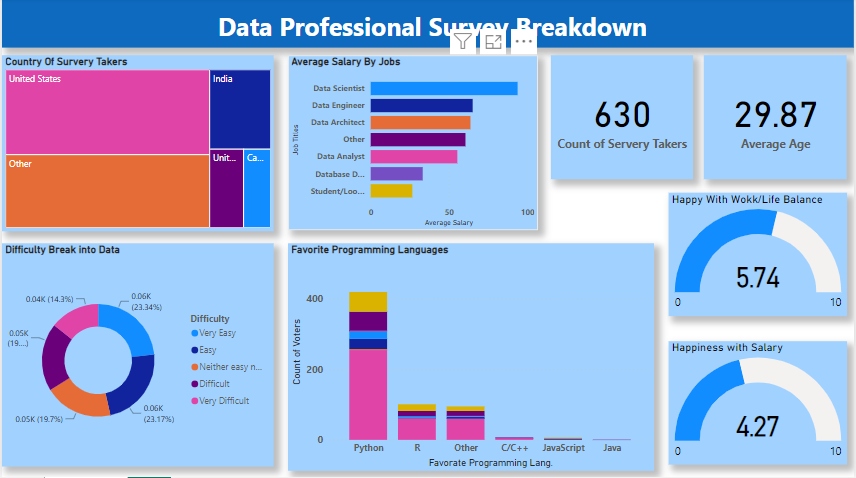

The dashboard page shown, as its layout file describes it:
{"tool":"powerbi","page":{"name":"Page 1","canvas":[1280,720],"ordinal":0},"visuals":[{"type":"textbox","box":[0,0,1279.9,74.5],"z":0},{"type":"card","fields":{"Values":["CountNonNull(Data Professional Survey.Unique ID)"]},"box":[824.8,86,213.2,186.8],"z":1000},{"type":"card","fields":{"Values":["Avg(Data Professional Survey.Q10 - Current Age)"]},"box":[1054.6,86,214.9,186.8],"z":2000},{"type":"barChart","title":"Average Salary  By Jobs","fields":{"Category":["Data Professional Survey.Q1 - Which Title Best Fits your Current Role?.1"],"Y":["Avg(Data Professional Survey.Average Salary)"],"Series":["Data Professional Survey.Q1 - Which Title Best Fits your Current Role?.1"]},"box":[429.8,86,375.2,262.8],"z":3000},{"type":"columnChart","title":"Favorite Programming Languages","fields":{"Category":["Data Professional Survey.Q5 - Favorite Programming Language.1.1"],"Y":["CountNonNull(Data Professional Survey.Unique ID)"],"Series":["Data Professional Survey.Q1 - Which Title Best Fits your Current Role?.1"]},"box":[429.8,368.6,550.4,342.2],"z":4000},{"type":"treemap","title":"Country Of Survery Takers","fields":{"Group":["Data Professional Survey.Q11 - Which Country do you live in?.1"],"Values":["CountNonNull(Data Professional Survey.Q11 - Which Country do you live in?.1)"]},"box":[0,86,408.3,264.5],"z":5000},{"type":"gauge","title":"Happy With Wokk/Life Balance","fields":{"Y":["Avg(Data Professional Survey.Q6 - How Happy are you in your Current Position with the following? (Work/Life Balance))"],"MinValue":["Min(Data Professional Survey.Q6 - How Happy are you in your Current Position with the following? (Work/Life Balance))1"],"MaxValue":["Max(Data Professional Survey.Q6 - How Happy are you in your Current Position with the following? (Work/Life Balance))2"]},"box":[1001.7,292.6,267.8,185.1],"z":6000},{"type":"gauge","title":"Happiness with Salary","fields":{"Y":["Avg(Data Professional Survey.Q6 - How Happy are you in your Current Position with the following? (Salary))"],"MinValue":["Min(Data Professional Survey.Q6 - How Happy are you in your Current Position with the following? (Salary))1"],"MaxValue":["Max(Data Professional Survey.Q6 - How Happy are you in your Current Position with the following? (Salary))2"]},"box":[1001.7,515.7,267.8,185.1],"z":7000},{"type":"donutChart","title":"Difficulty Break into Data","fields":{"Category":["Data Professional Survey.Q7 - How difficult was it for you to break into Data?"],"Y":["Avg(Data Professional Survey.Average Salary)"]},"box":[0,368.6,408.3,335.6],"z":8000}]}

Visuals, with their boxes in screenshot pixels (x1, y1, x2, y2), scaled from the page's 1280x720 canvas onto the 856x478 screenshot:
textbox: 0,0,855,49
card - CountNonNull(Data Professional Survey.Unique ID): 552,57,694,181
card - Avg(Data Professional Survey.Q10 - Current Age): 705,57,849,181
"Average Salary  By Jobs" barChart: 287,57,538,232
"Favorite Programming Languages" columnChart: 287,245,656,472
"Country Of Survery Takers" treemap: 0,57,273,233
"Happy With Wokk/Life Balance" gauge: 670,194,849,317
"Happiness with Salary" gauge: 670,342,849,465
"Difficulty Break into Data" donutChart: 0,245,273,468
